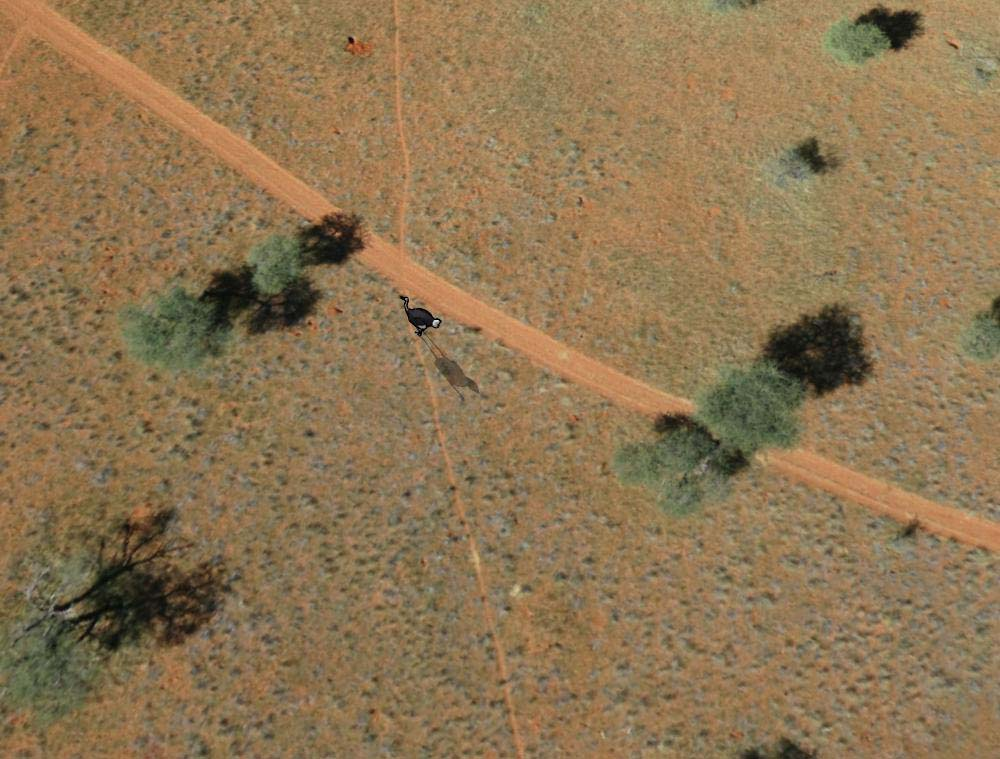springbok: (395, 286, 444, 339)
